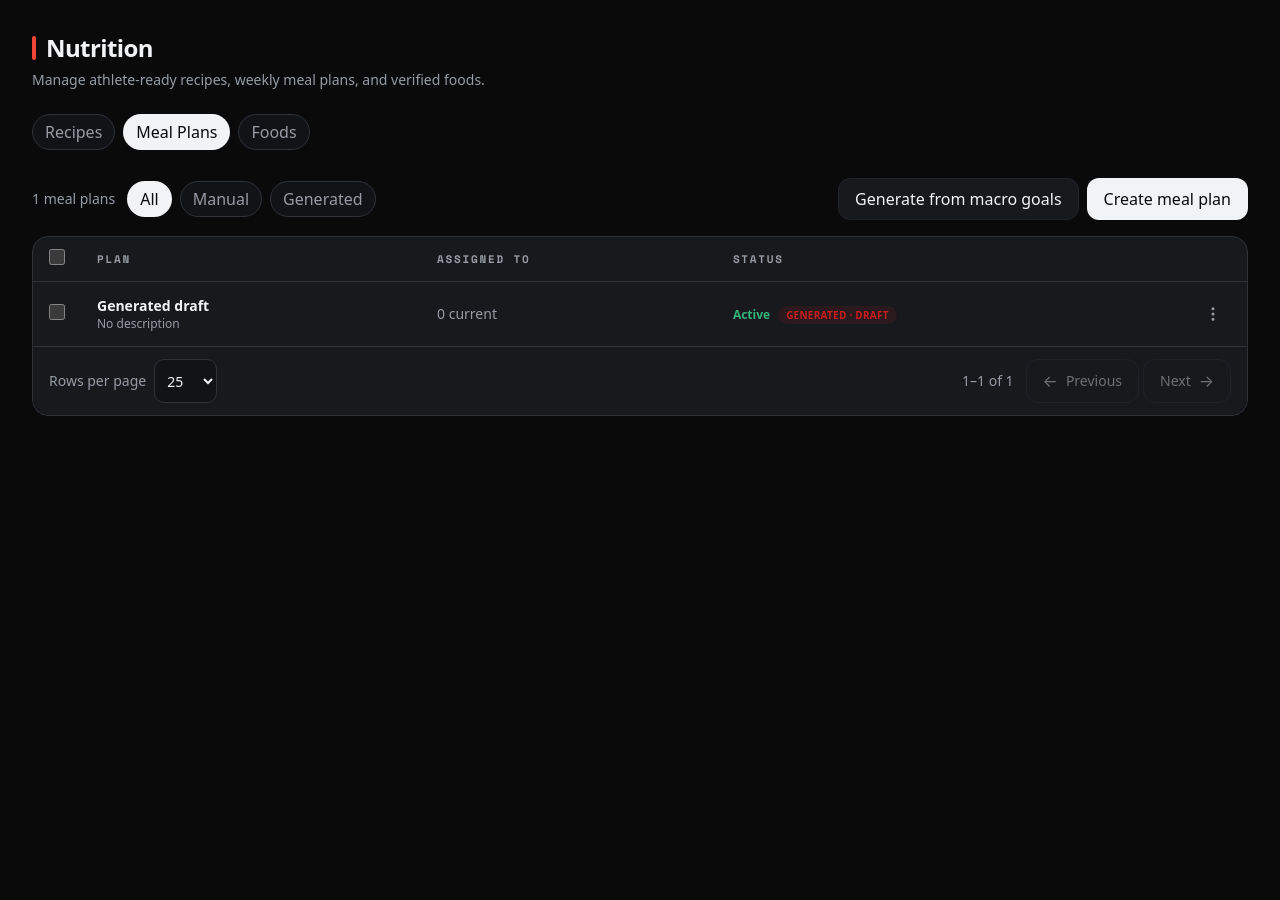
Nutrition meal-plan deletion › deletes generated drafts through the admin RPC and requires the returned plan id
Expected: the text "Generated draft" is shown, [97, 296, 209, 315]
Click the button named "Actions" at (1213, 314), box [1195, 296, 1231, 332]
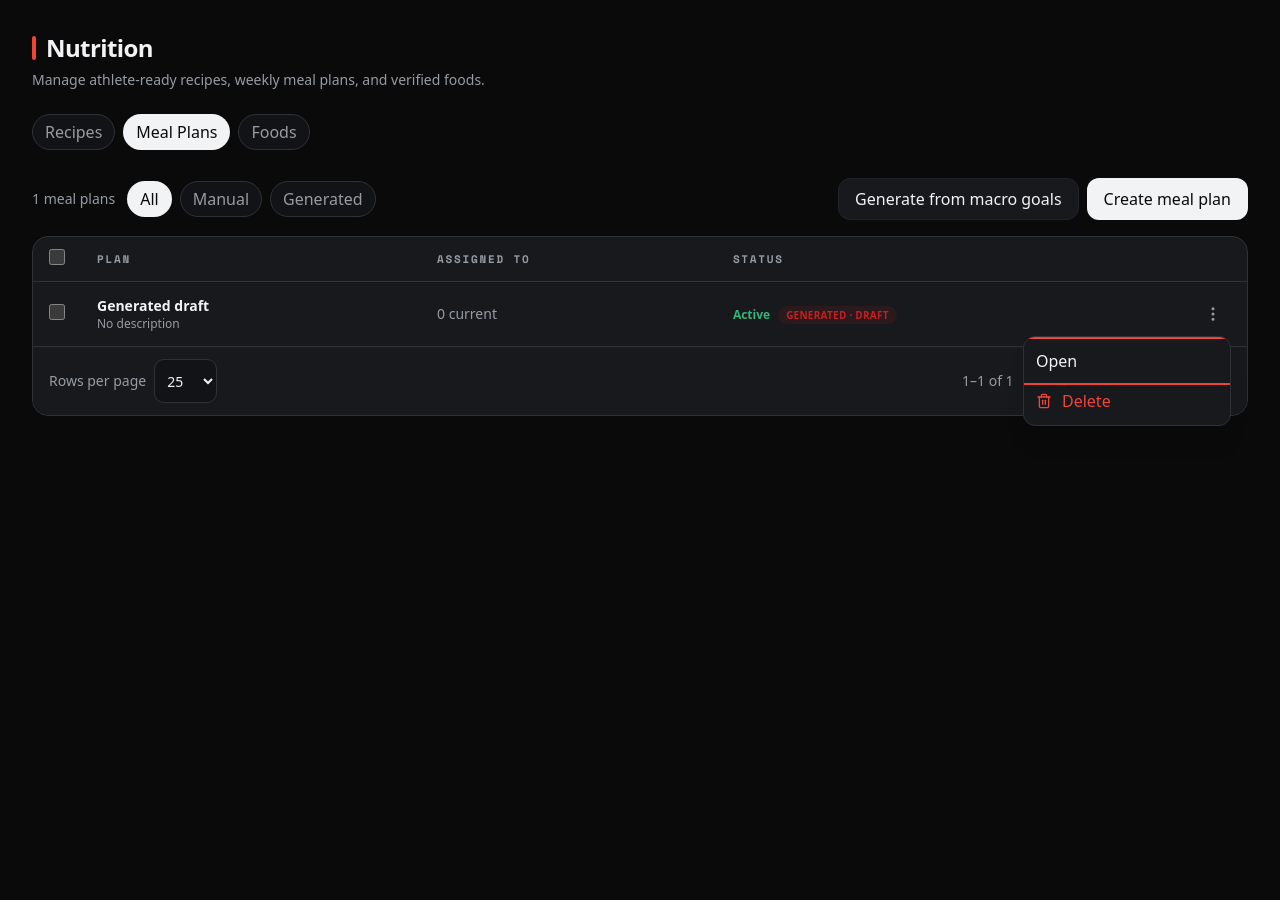
Click the menu item "Delete" at (1127, 401), box [1024, 381, 1230, 421]
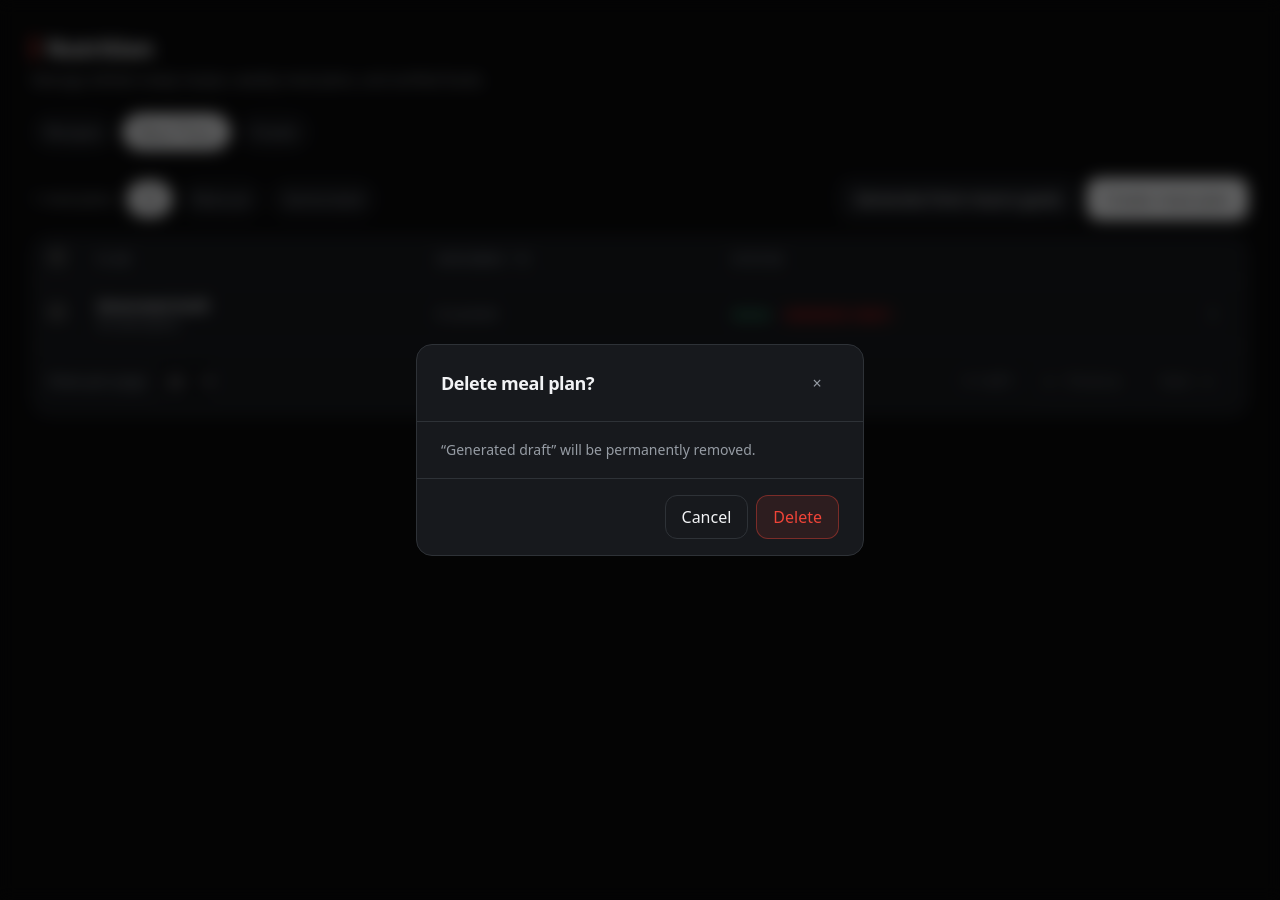
Click the button "Delete" at (798, 517), box [756, 495, 839, 539]
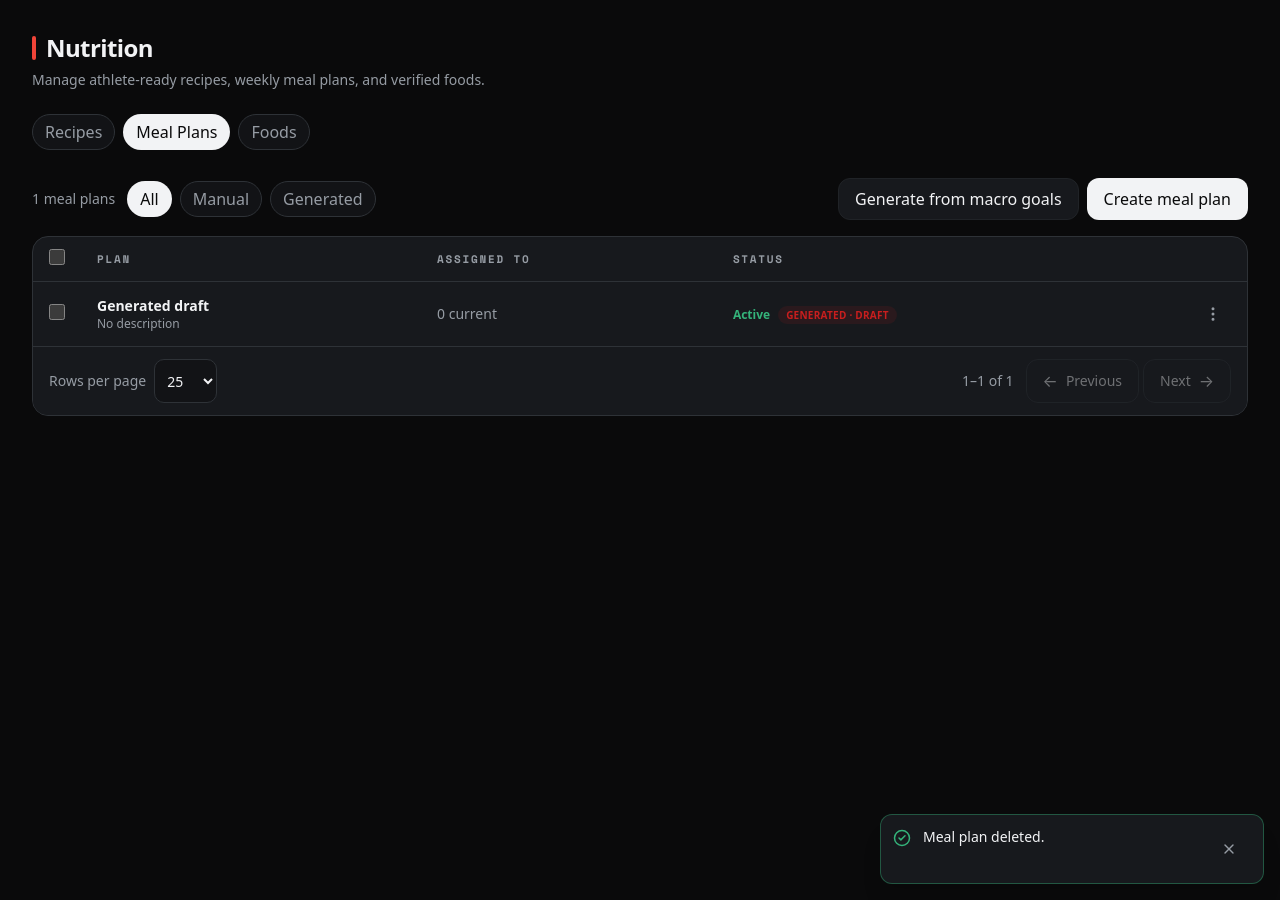
Expected: the text "Meal plan deleted." is shown, [923, 827, 1044, 846]
